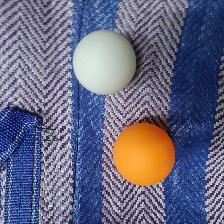WhiteBall: (73, 30, 136, 95)
YellowBall: (112, 123, 175, 186)
